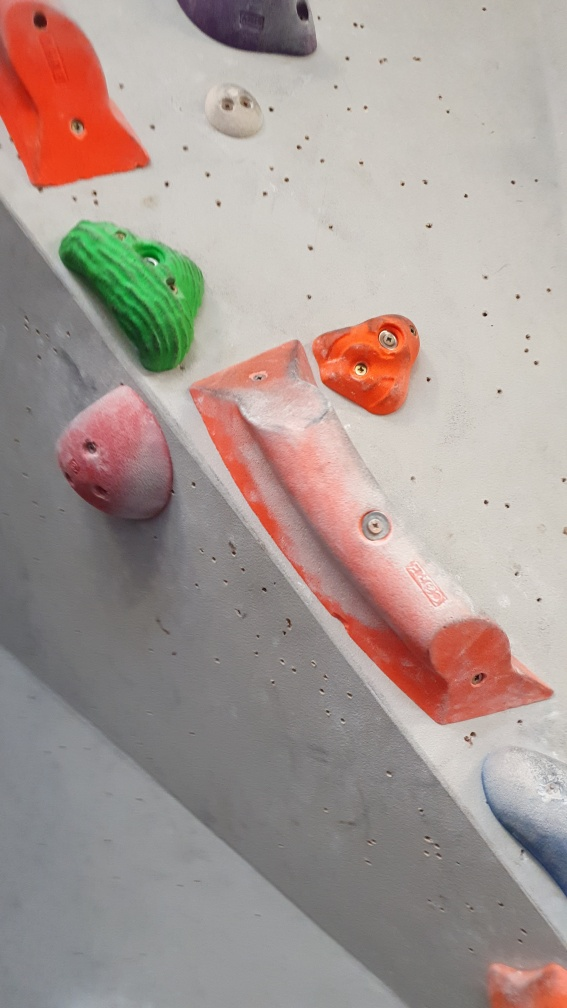Jug: (58, 211, 214, 376)
Pinch: (186, 336, 556, 722), (1, 1, 154, 188)
